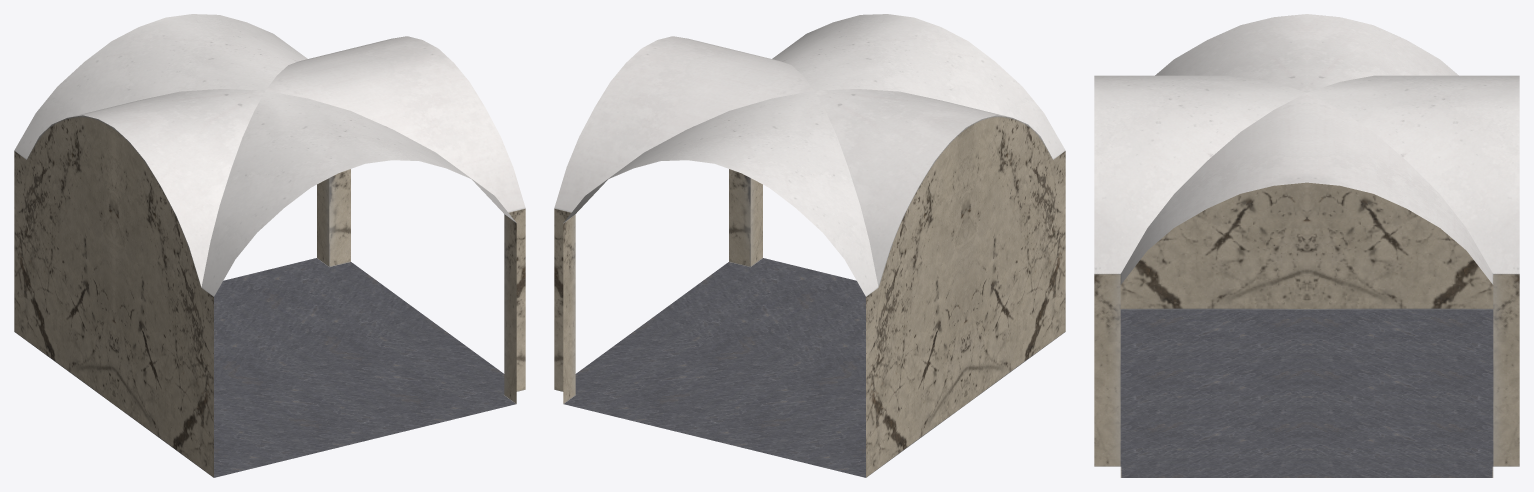
File: interchange t junction.fbx
3 views of the same model, side by side, from view 1: azimuth 30°, elevation 25°; view 2: azimuth 150°, elevation 25°; view 3: azimuth 270°, elevation 25° (orthographic). The views are drawn at different scales.
Parts seen in each view (by area): view 1: t junction_low; view 2: t junction_low; view 3: t junction_low.
Boxes of the visible parts, bbox=[...] form: t junction_low: bbox=[14, 14, 525, 477]; t junction_low: bbox=[554, 14, 1065, 477]; t junction_low: bbox=[1094, 14, 1519, 477].
Size of the model in its own units: 800 by 750 by 613.
